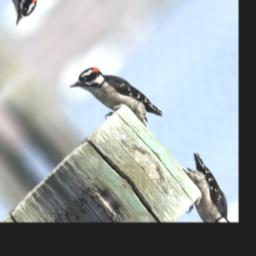Woodpecker: (67, 46, 164, 151)
